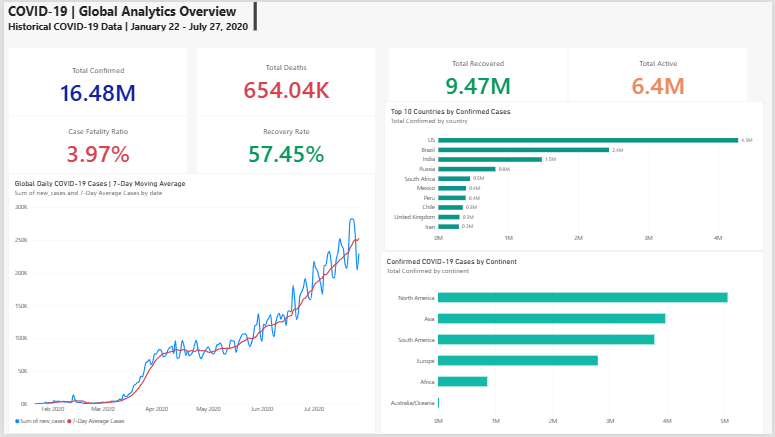

This screenshot's page, from the dashboard's own definition file:
{"tool":"powerbi","page":{"name":"Global Overview","canvas":[1920,1080],"ordinal":0},"visuals":[{"type":"cardVisual","fields":{"Data":["covid_cleaned.Total Confirmed"]},"box":[10,112,450,196],"z":0},{"type":"cardVisual","fields":{"Data":["covid_cleaned.Total Deaths"]},"box":[480,112,450,180],"z":1000},{"type":"cardVisual","fields":{"Data":["covid_cleaned.Total Active"]},"box":[1410,112,450,158],"z":2000},{"type":"cardVisual","fields":{"Data":["covid_cleaned.Total Recovered"]},"box":[960,112,450,158],"z":3000},{"type":"cardVisual","fields":{"Data":["covid_cleaned.Case Fatality Ratio"]},"box":[10,282,450,160],"z":4000},{"type":"cardVisual","fields":{"Data":["covid_cleaned.Recovery Rate"]},"box":[480,282,450,160],"z":5000},{"type":"lineChart","title":"Global Daily COVID-19 Cases | 7-Day Moving Average","fields":{"Category":["covid_cleaned.date"],"Y":["Sum(covid_cleaned.new_cases)","covid_cleaned.7-Day Average Cases"]},"box":[10,428,920,652],"z":6000},{"type":"clusteredBarChart","title":"Top 10 Countries by Confirmed Cases","fields":{"Category":["covid_cleaned.country"],"Y":["covid_cleaned.Total Confirmed"]},"box":[950,248,950,374],"z":7000},{"type":"clusteredBarChart","title":"Confirmed COVID-19 Cases by Continent","fields":{"Category":["covid_cleaned.continent"],"Y":["covid_cleaned.Total Confirmed"]},"box":[940,622,960,458],"z":8000},{"type":"textbox","box":[10,0,621.7,73.3],"z":9000}]}

Visuals, with their boxes in screenshot pixels (x1, y1, x2, y2), scaled from the page's 1920x1080 canvas onto the 775x437 screenshot:
cardVisual - covid_cleaned.Total Confirmed: [left=4, top=45, right=186, bottom=125]
cardVisual - covid_cleaned.Total Deaths: [left=194, top=45, right=375, bottom=118]
cardVisual - covid_cleaned.Total Active: [left=569, top=45, right=751, bottom=109]
cardVisual - covid_cleaned.Total Recovered: [left=388, top=45, right=569, bottom=109]
cardVisual - covid_cleaned.Case Fatality Ratio: [left=4, top=114, right=186, bottom=179]
cardVisual - covid_cleaned.Recovery Rate: [left=194, top=114, right=375, bottom=179]
"Global Daily COVID-19 Cases | 7-Day Moving Average" lineChart: [left=4, top=173, right=375, bottom=436]
"Top 10 Countries by Confirmed Cases" clusteredBarChart: [left=383, top=100, right=767, bottom=252]
"Confirmed COVID-19 Cases by Continent" clusteredBarChart: [left=379, top=252, right=767, bottom=436]
textbox: [left=4, top=0, right=255, bottom=30]
